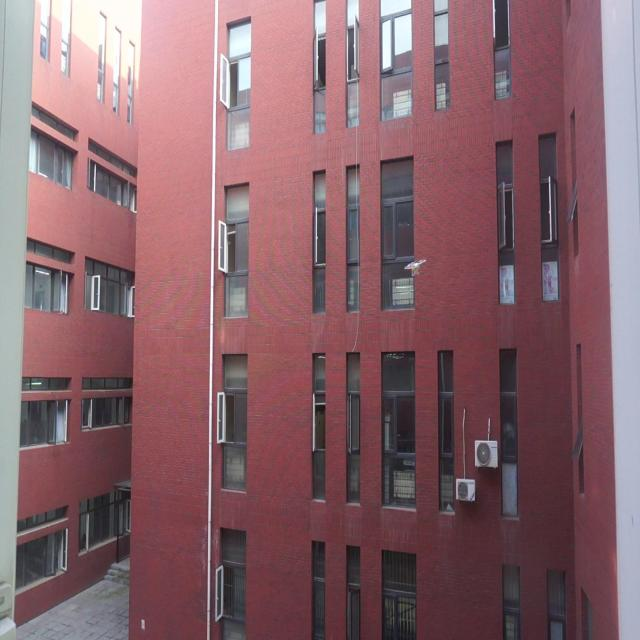drone: (403, 255, 428, 280)
